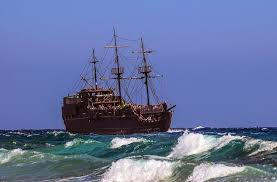tau_dansu: (51, 50, 170, 136)
